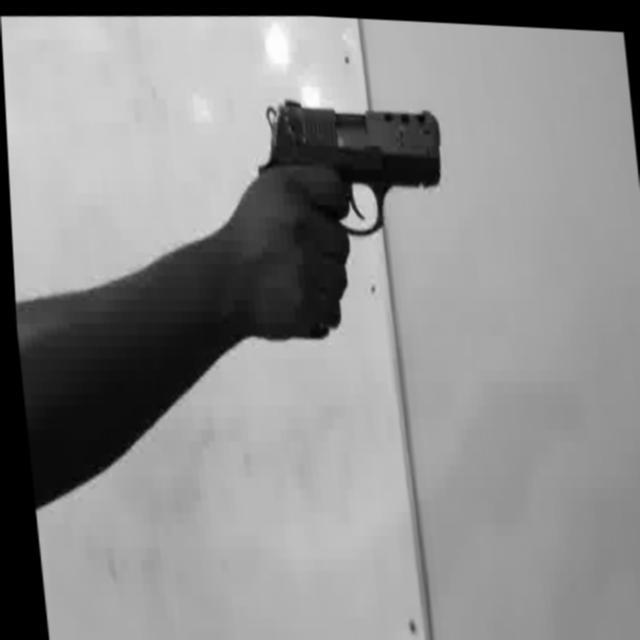weapon: (246, 85, 448, 246)
